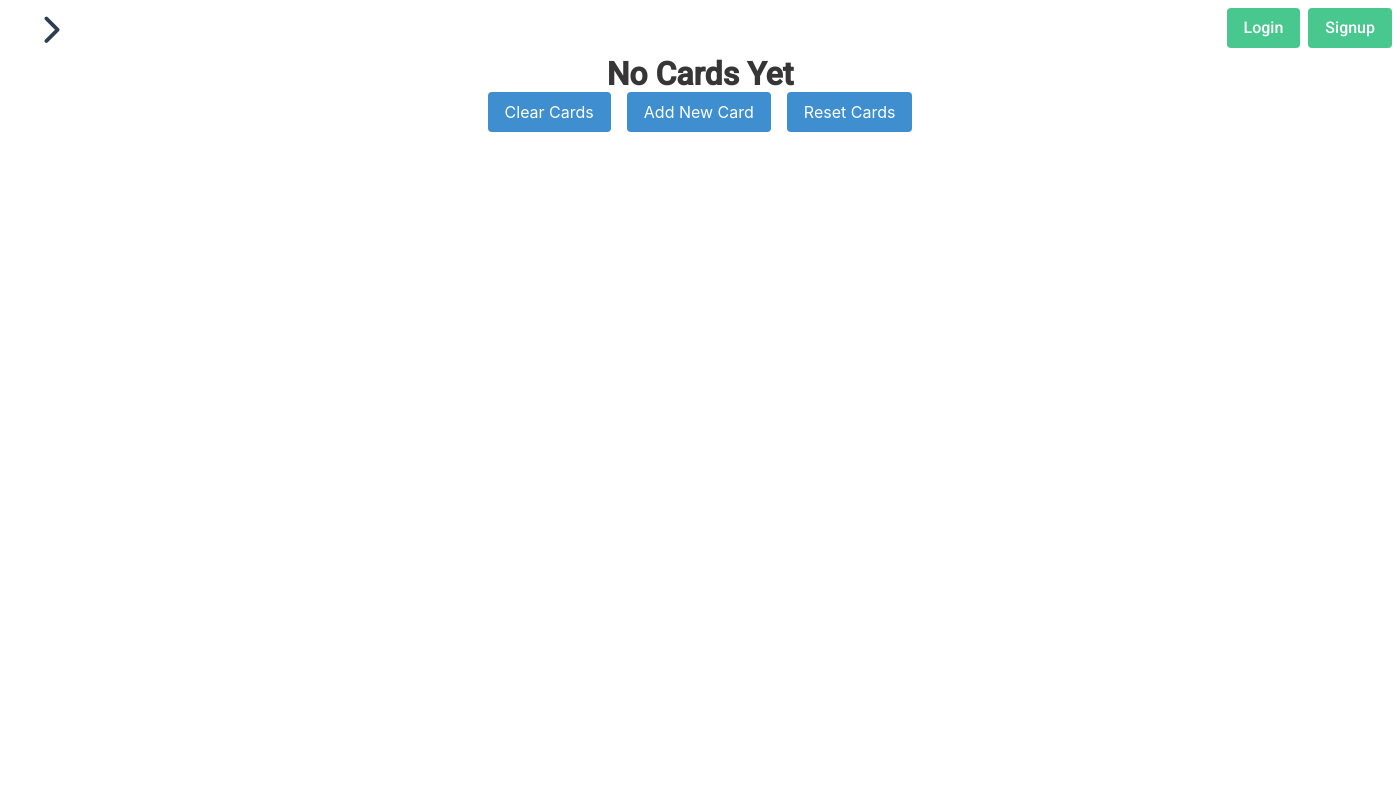
Test case: sidebar-screenshot › visit's home page
This screenshot has width=1400, height=800.
Click the icon with class "fa-chevron-right" at (50, 30), box 30,15 -> 70,45
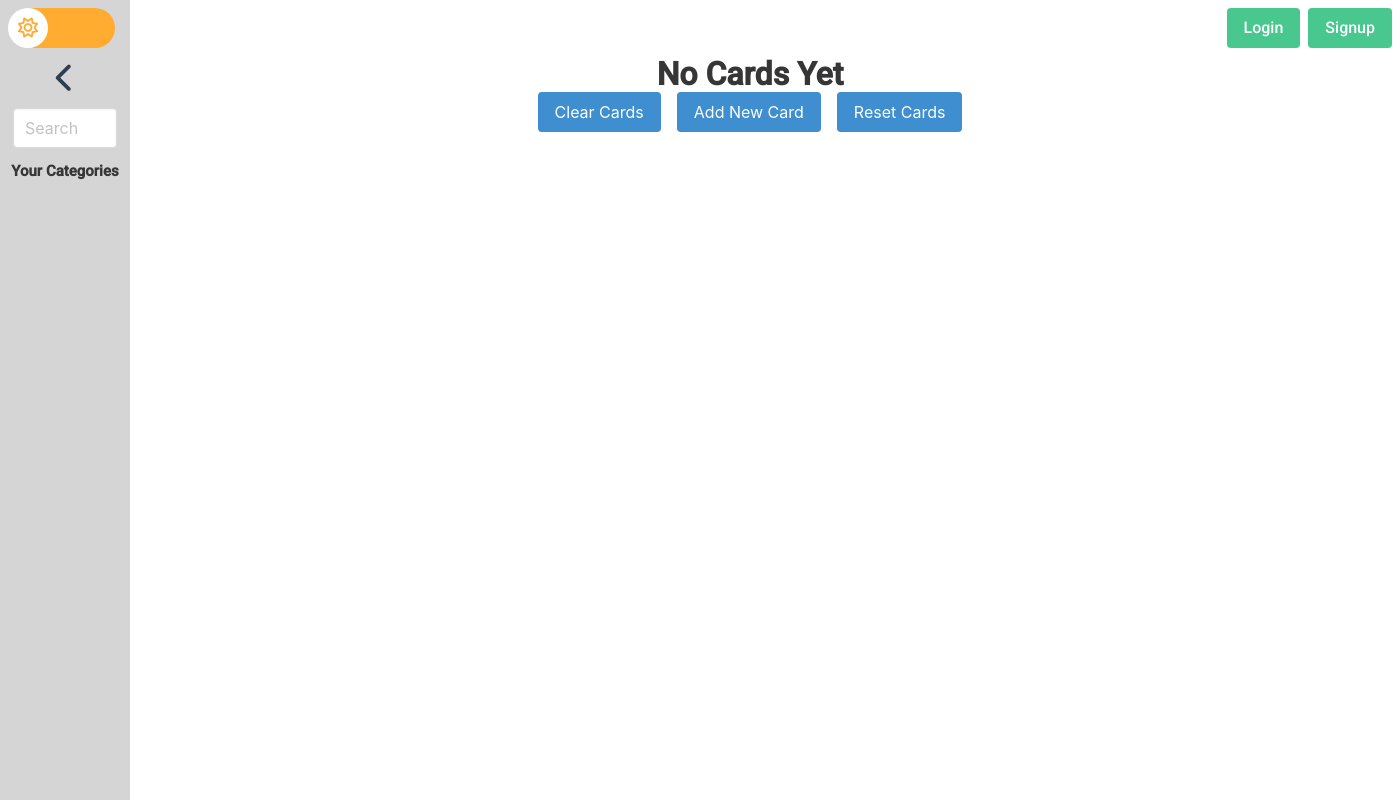
Result: the number of icons with class "fa-chevron-left" is 1 at 15,63 -> 115,93
